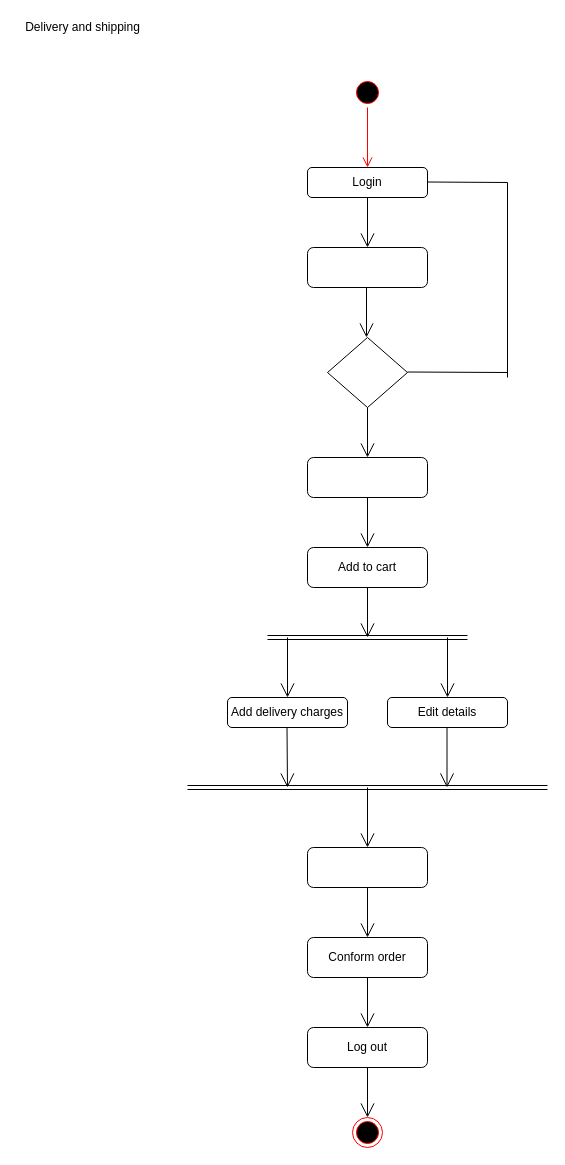
The diagram is 565 pixels wide and 1165 high, and some of its shapes have lost their labels. Here are the shapes that lost their labels. From the top down, the centre of each, then its label:
point (367, 267): Authentication
point (367, 477): Select item
point (367, 867): Total payment
